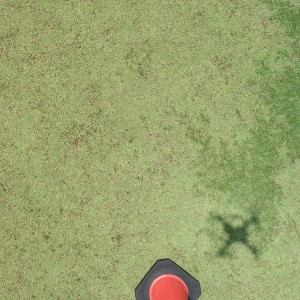traffic cone: (135, 259, 202, 300)
